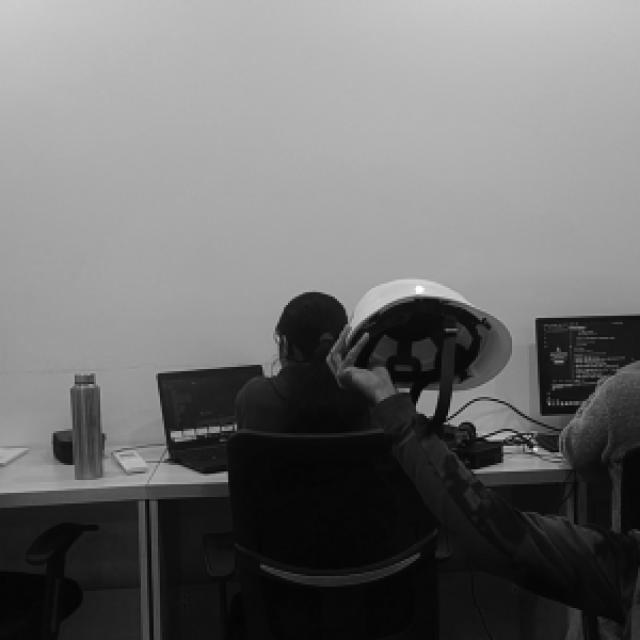safety_helmet: (348, 277, 512, 388)
